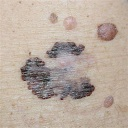Melanoma: (22, 41, 94, 99), (97, 24, 120, 40)
